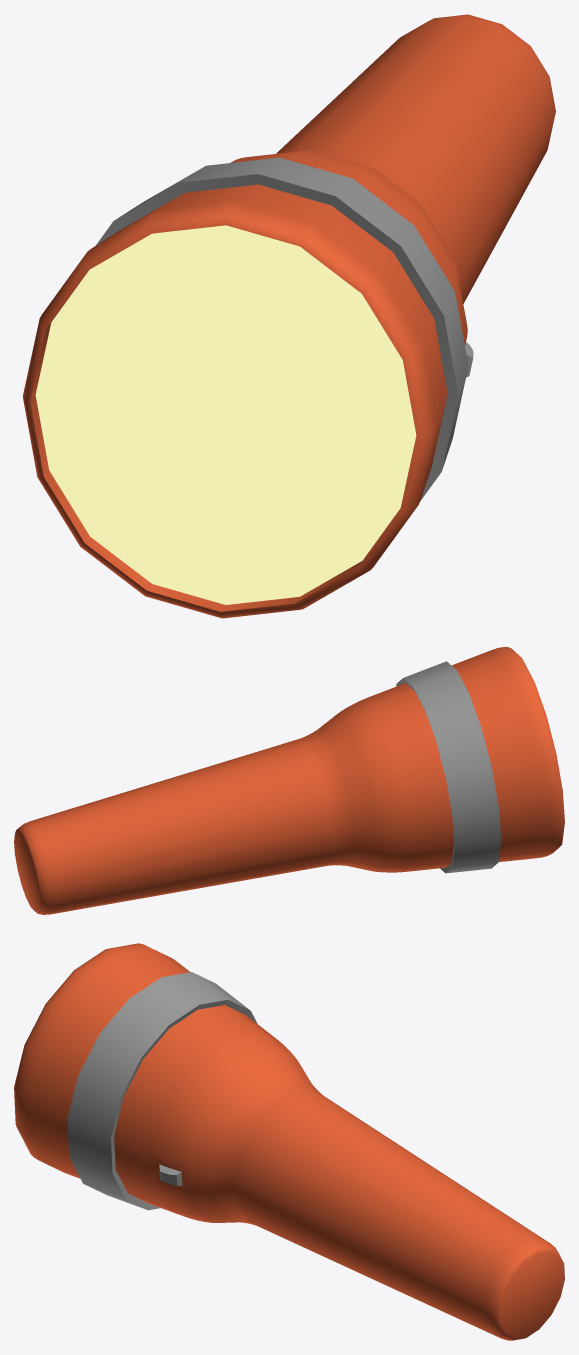
File: linterna.glb
3 views of the same model, one above another, from view 1: azimuth 30°, elevation 25°; view 2: azimuth 150°, elevation 25°; view 3: azimuth 270°, elevation 25° (orthographic). The views are drawn at different scales.
Visible parts, largest first — view 1: Cylinder_0; view 2: Cylinder_0; view 3: Cylinder_0.
Boxes of the visible parts, box(x1,y1,x2,y2) form: Cylinder_0: box(23, 14, 555, 618); Cylinder_0: box(14, 647, 564, 914); Cylinder_0: box(14, 943, 564, 1340).
Bounding box in the file's own units: 2.88 × 1.36 × 2.97.
